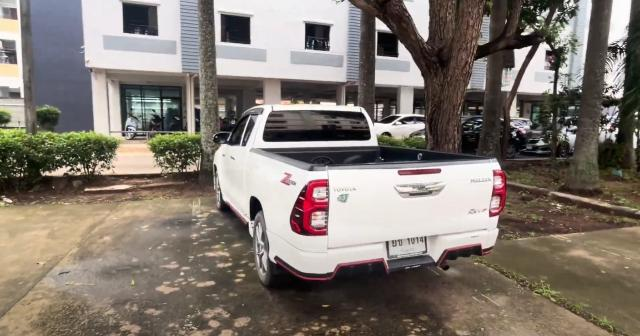pickup-truck: (209, 102, 508, 292)
